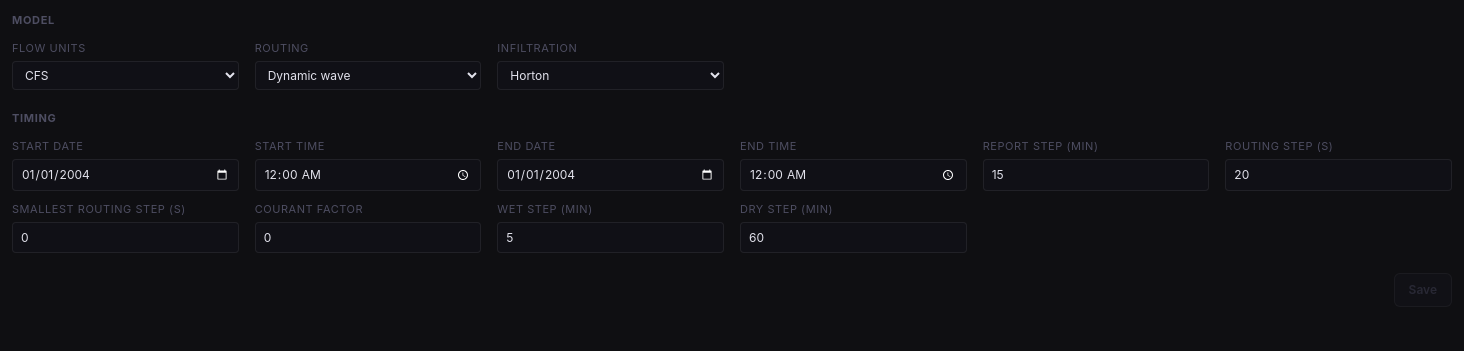
it: UdsSettingsView › holds a refusal beside the fields instead of toasting it
Replace the text in the time field below "End time" with "00:01": (853, 175) [740,159,967,191]
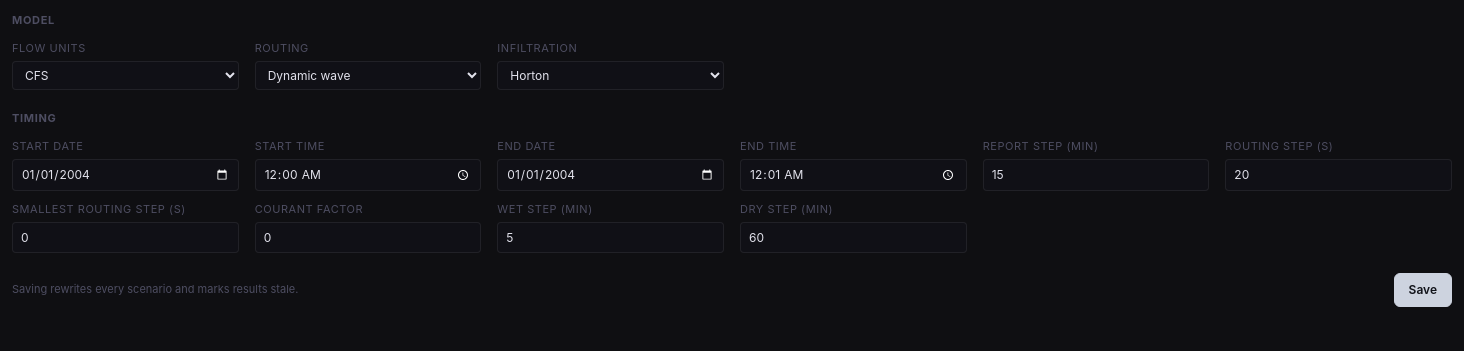
Click the button with aria-label "Save simulation settings": (1423, 290) [1394,273,1452,306]
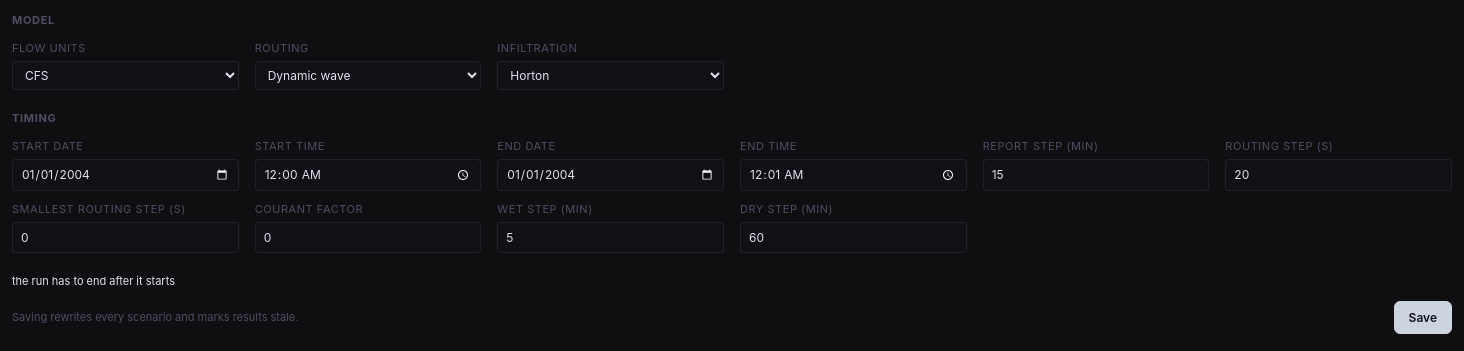
Now the text "the run has to end after it starts" is shown, box [12,274,175,288]
